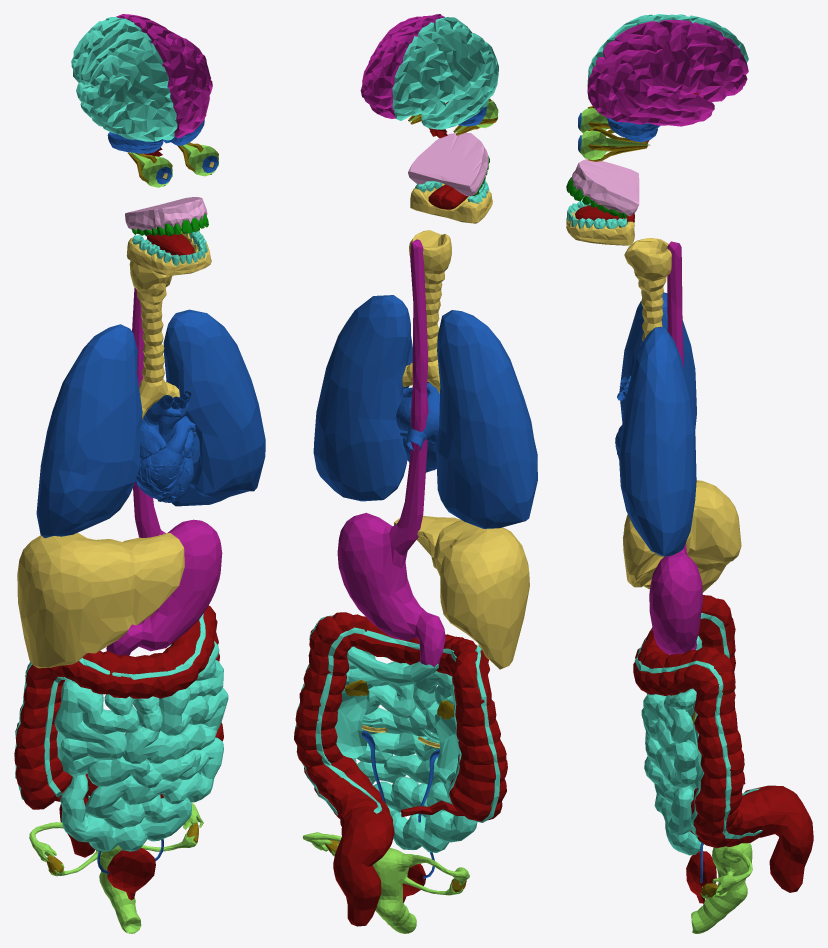
File: Internal Organs OBJ.obj
3 renders of one model, left to right at view 1: azimuth 30°, elevation 25°; view 2: azimuth 150°, elevation 25°; view 3: azimuth 270°, elevation 25°, orthographic. The views are drawn at different scales.
Parts seen in each view (by area): view 1: Lungs, Small_intestines, Liver, Colon, Brain_2, Stomach, Heart, Brain_1, Trachea, Vagina, Gum_1, Uric (+7 smaller); view 2: Lungs, Colon, Small_intestines, Stomach, Liver, Brain_2, Vagina, Gum_1, Brain_1, Trachea, Kidneys, Heart (+4 smaller); view 3: Colon, Lungs, Brain_1, Small_intestines, Stomach, Liver, Vagina, Trachea, Gum_1, Brain_2, Gum_2, Uric (+4 smaller).
Boxes of the visible parts, left/top/right/bottom form: Lungs: left=36, top=309, right=265, bottom=538; Small_intestines: left=14, top=613, right=228, bottom=851; Liver: left=17, top=532, right=184, bottom=668; Colon: left=14, top=605, right=223, bottom=857; Brain_2: left=71, top=17, right=177, bottom=141; Stomach: left=106, top=287, right=222, bottom=655; Heart: left=135, top=391, right=195, bottom=502; Brain_1: left=116, top=14, right=212, bottom=138; Trachea: left=129, top=260, right=179, bottom=419; Vagina: left=29, top=802, right=203, bottom=933; Gum_1: left=125, top=197, right=207, bottom=230; Uric: left=107, top=848, right=155, bottom=900; Lungs: left=313, top=295, right=537, bottom=528; Colon: left=294, top=612, right=507, bottom=926; Small_intestines: left=294, top=615, right=500, bottom=852; Stomach: left=337, top=239, right=445, bottom=672; Liver: left=394, top=516, right=529, bottom=669; Brain_2: left=392, top=17, right=498, bottom=129; Vagina: left=302, top=832, right=469, bottom=933; Gum_1: left=408, top=132, right=488, bottom=196; Brain_1: left=360, top=14, right=444, bottom=118; Trachea: left=402, top=230, right=451, bottom=393; Kidneys: left=335, top=685, right=459, bottom=779; Heart: left=396, top=382, right=439, bottom=472; Colon: left=633, top=595, right=813, bottom=892; Lungs: left=619, top=292, right=696, bottom=556; Brain_1: left=587, top=20, right=748, bottom=126; Small_intestines: left=634, top=613, right=762, bottom=855; Stomach: left=649, top=241, right=702, bottom=654; Liver: left=623, top=480, right=741, bottom=592; Vagina: left=691, top=843, right=752, bottom=933; Trachea: left=624, top=238, right=671, bottom=341; Gum_1: left=571, top=159, right=639, bottom=216; Brain_2: left=587, top=14, right=748, bottom=86; Gum_2: left=566, top=205, right=634, bottom=245; Uric: left=686, top=851, right=716, bottom=903.
Bounding box in the file's own units: 358 × 1413 × 348.
